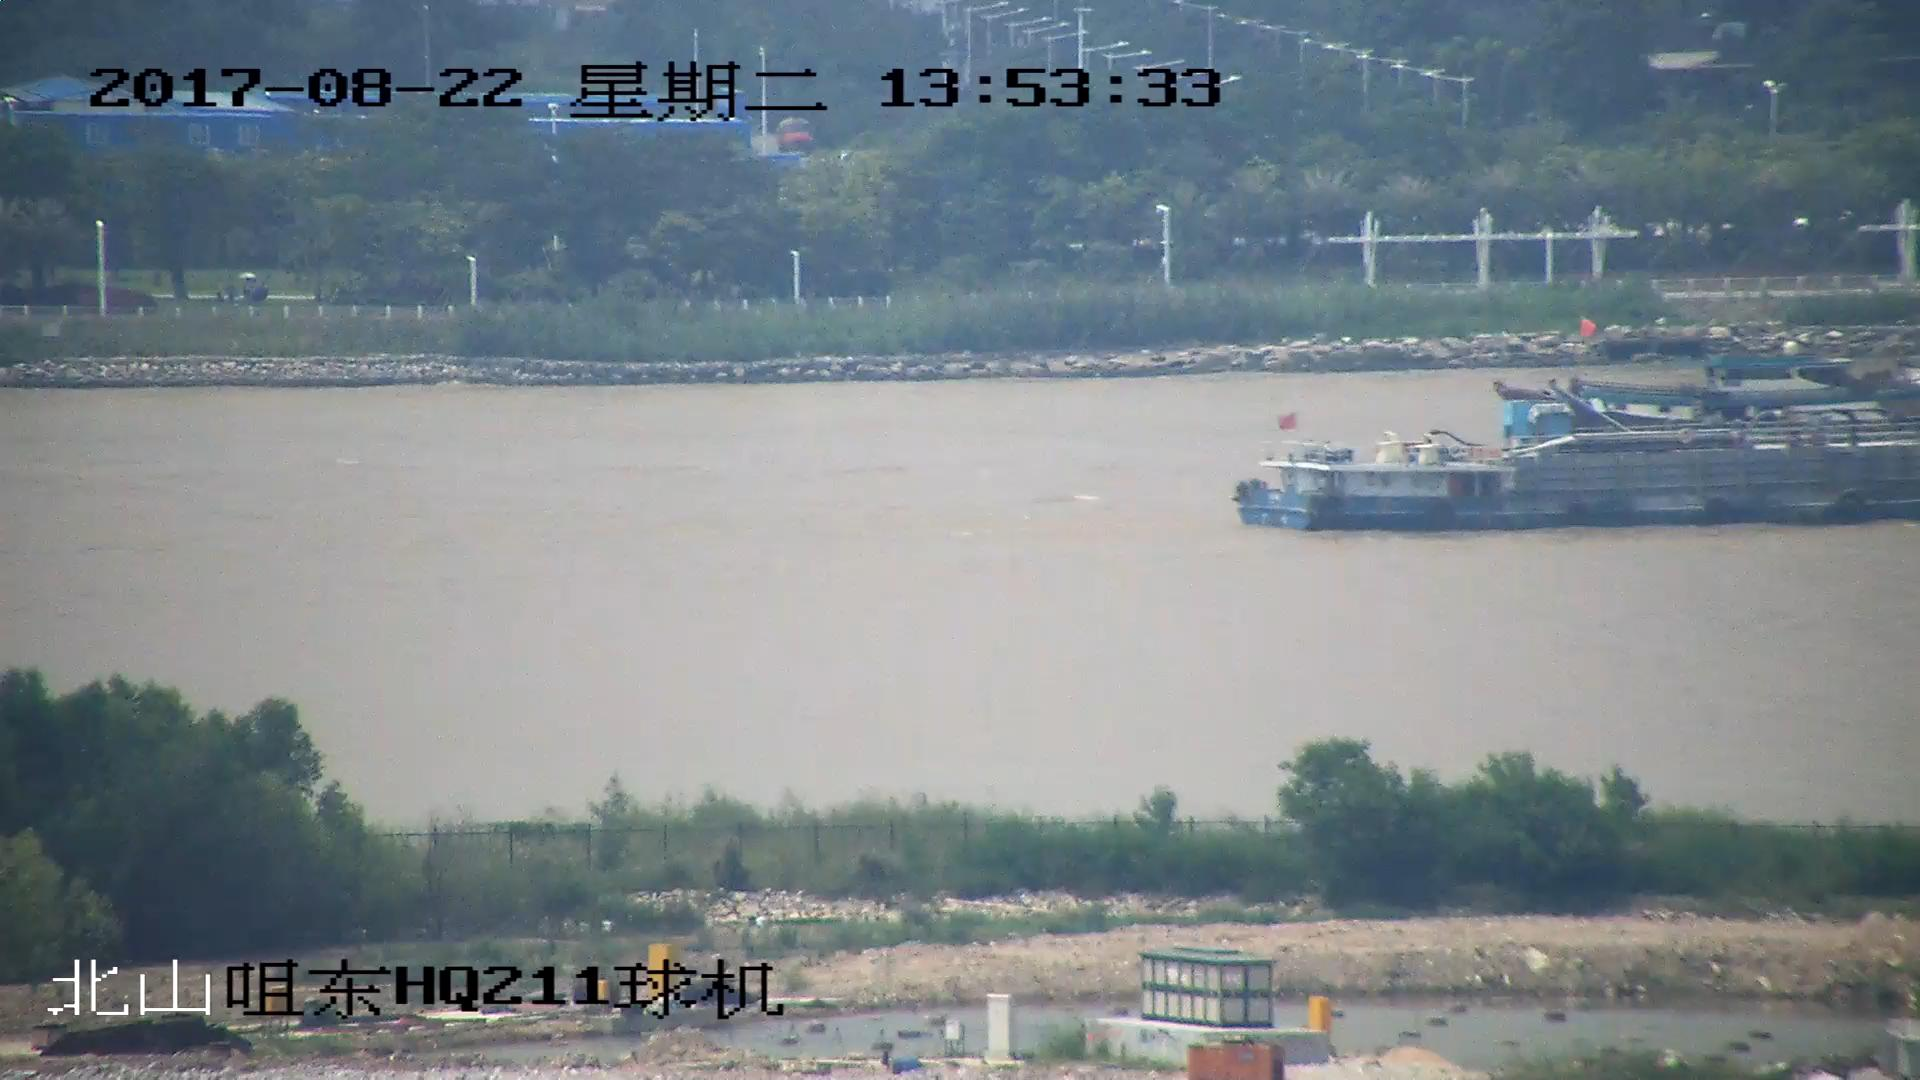fishing boat: (1489, 322, 1920, 453)
general cargo ship: (1231, 407, 1920, 535)
